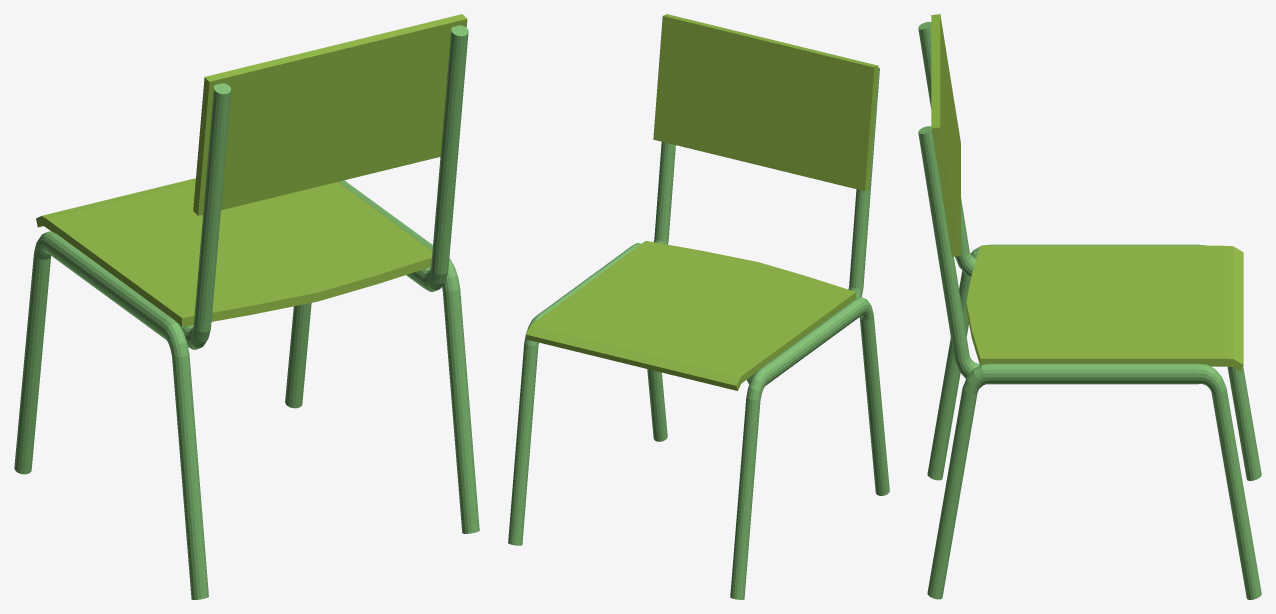
The model's file is Silla.fbx.
3 renders of one model, left to right at view 1: azimuth 30°, elevation 25°; view 2: azimuth 150°, elevation 25°; view 3: azimuth 270°, elevation 25°, orthographic. The views are drawn at different scales.
Parts seen in each view (by area): view 1: Base, Cube, Patas2, Patas1, Soporte1, Soporte2; view 2: Base, Cube, Patas2, Patas1, Soporte2, Soporte1; view 3: Base, Patas1, Patas2, Cube, Soporte1, Soporte2.
Boxes of the visible parts, x1,y1,x2,y2 form: Base: [36, 178, 432, 326]; Cube: [193, 14, 467, 215]; Patas2: [14, 231, 208, 599]; Patas1: [285, 180, 479, 533]; Soporte1: [406, 25, 468, 291]; Soporte2: [180, 83, 231, 349]; Base: [526, 241, 856, 390]; Cube: [653, 14, 878, 191]; Patas2: [730, 297, 889, 599]; Patas1: [508, 243, 667, 545]; Soporte2: [747, 67, 879, 383]; Soporte1: [653, 142, 675, 244]; Base: [966, 245, 1243, 371]; Patas1: [927, 363, 1261, 599]; Patas2: [927, 244, 1261, 480]; Cube: [931, 14, 960, 256]; Soporte1: [918, 126, 988, 384]; Soporte2: [918, 21, 976, 277].
Bounding box in the file's own units: 83.17 × 144 × 96.04.
